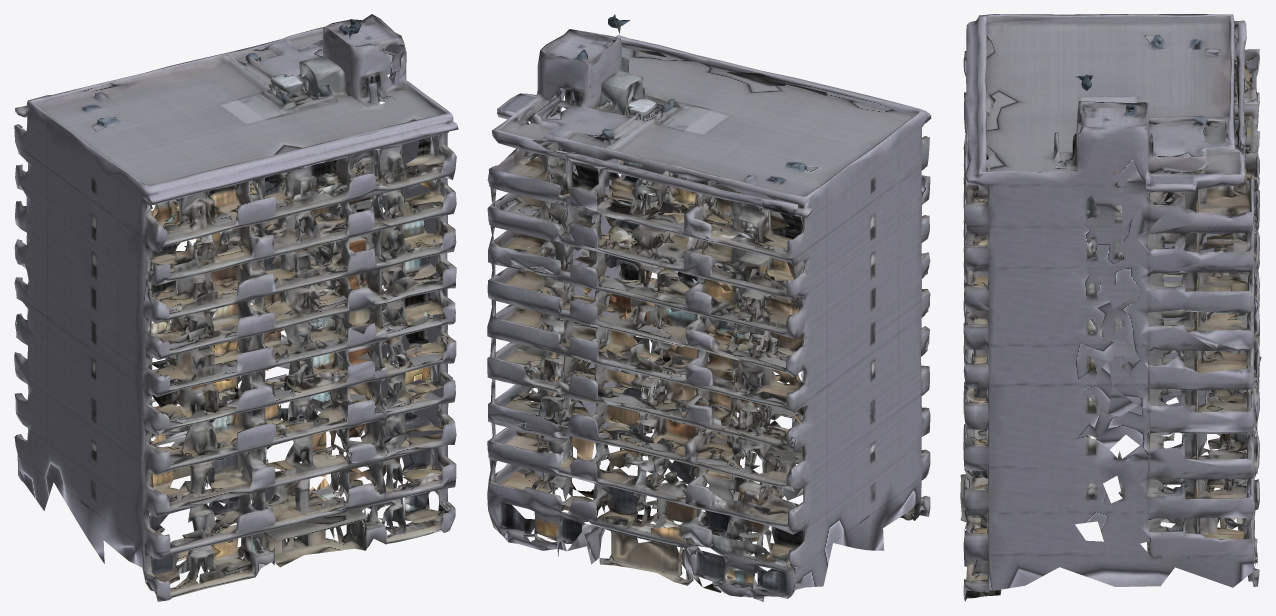
The model's file is city_apartment.0.glb.
3 views of the same model, side by side, from view 1: azimuth 30°, elevation 25°; view 2: azimuth 150°, elevation 25°; view 3: azimuth 270°, elevation 25° (orthographic). The views are drawn at different scales.
Parts seen in each view (by area): view 1: geometry_0; view 2: geometry_0; view 3: geometry_0.
Boxes of the visible parts, left/top/right/bottom form: geometry_0: left=14, top=14, right=458, bottom=601; geometry_0: left=487, top=14, right=931, bottom=601; geometry_0: left=960, top=14, right=1261, bottom=601.
Size of the model in its own units: 0.7095 by 0.9797 by 0.5265.
Materials: 1 (1 with a texture image).
